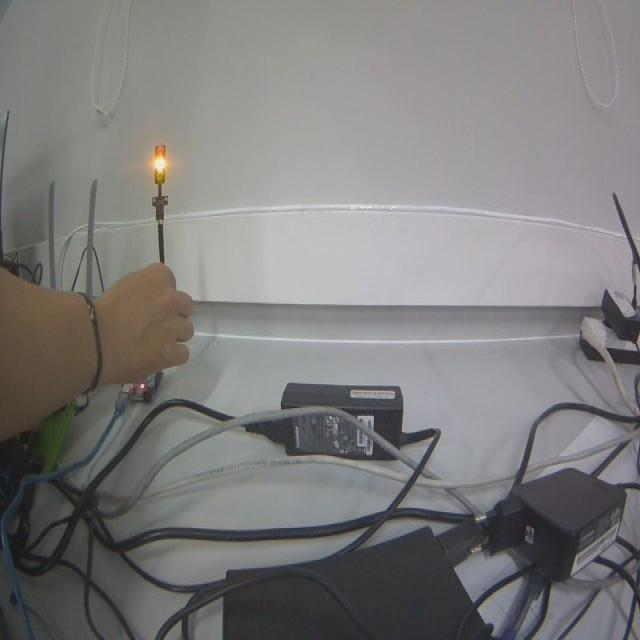Lampu Kuning: (154, 145, 167, 185)
